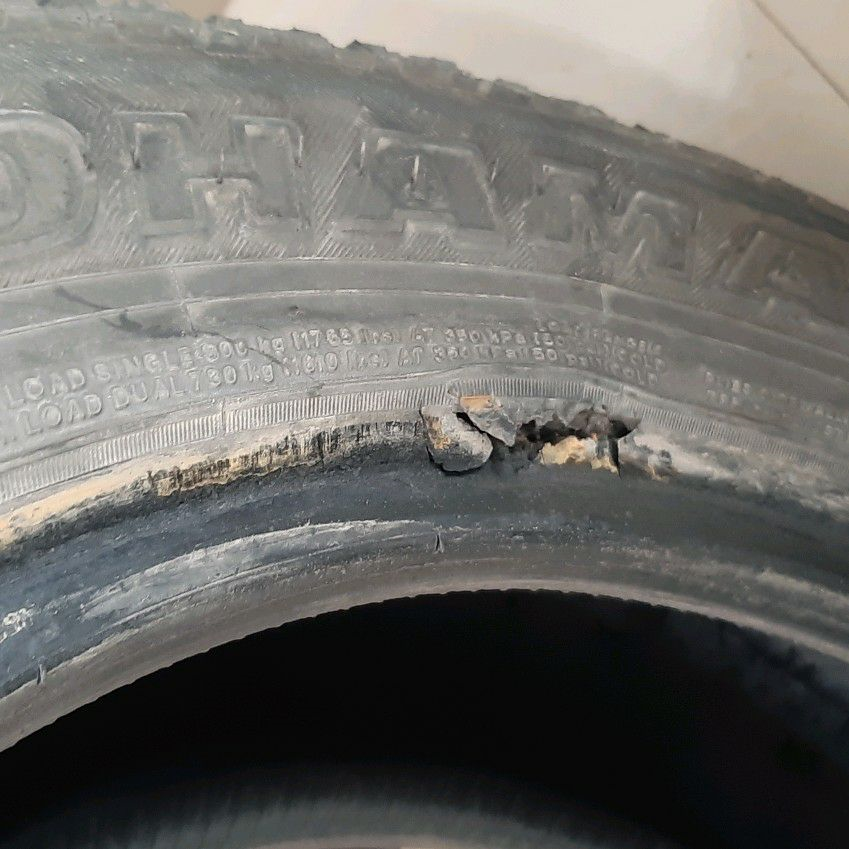cut: (414, 399, 643, 485)
